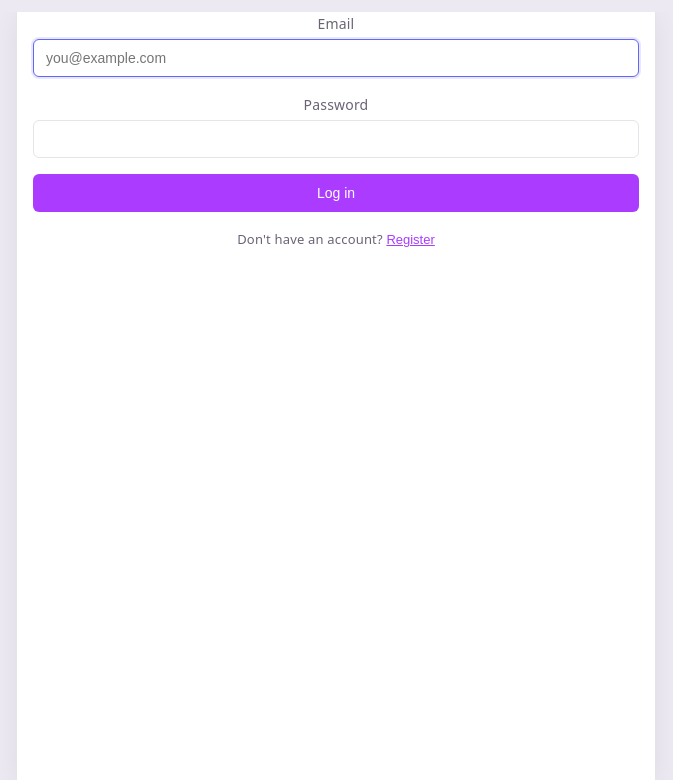
Test: LoginForm › successful submit › shows loading state during submission
The image size is (673, 780).
Type "test@example.com" into the field labelled "Email" at (336, 58), box [33,39,639,77]
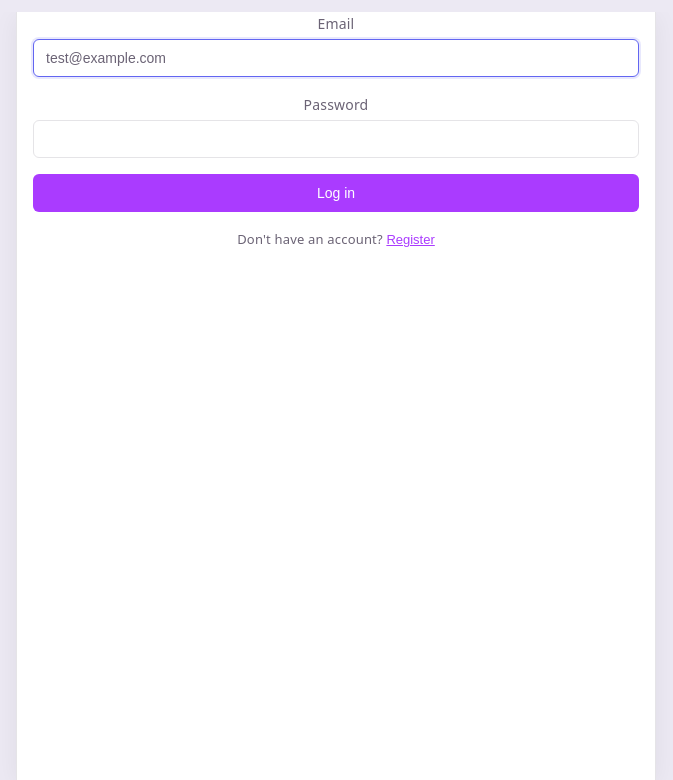
Type "password123" into the password field labelled "Password" at (336, 139), box [33,120,639,158]
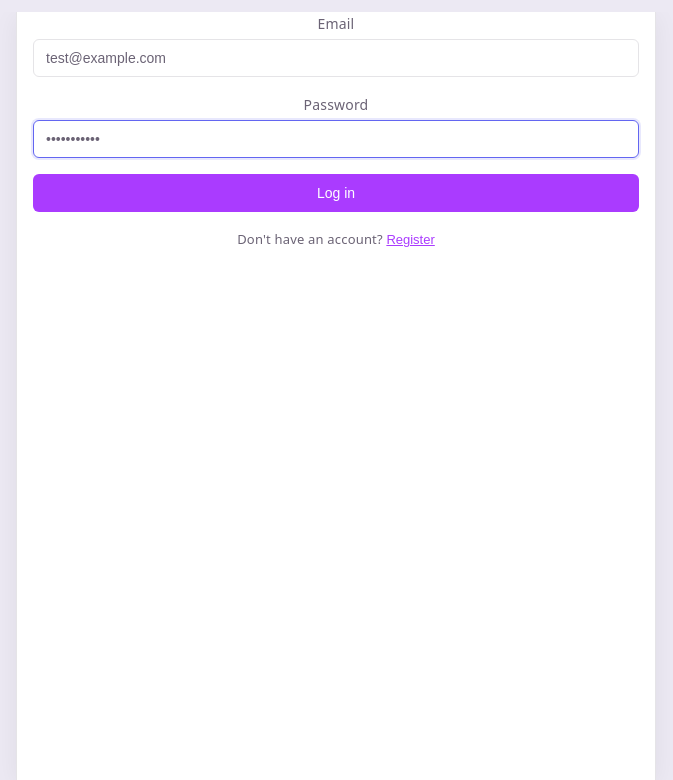
Click the button "Log in" at (336, 193), box [33,174,639,212]
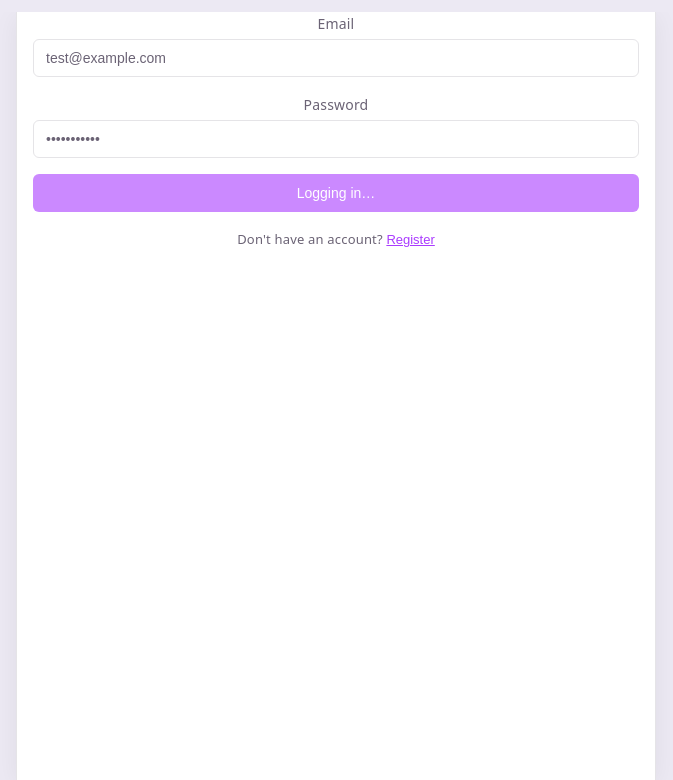
Expected: the button "Logging in…" is disabled, [33,174,639,212]
